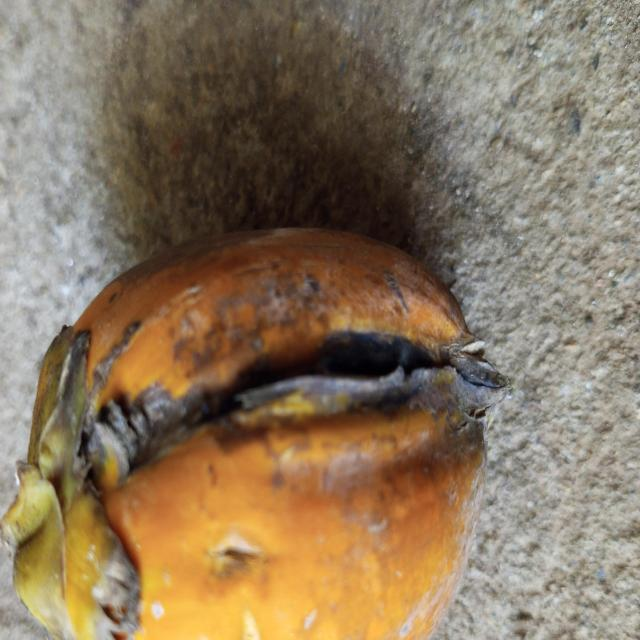damaged: (0, 229, 509, 640)
